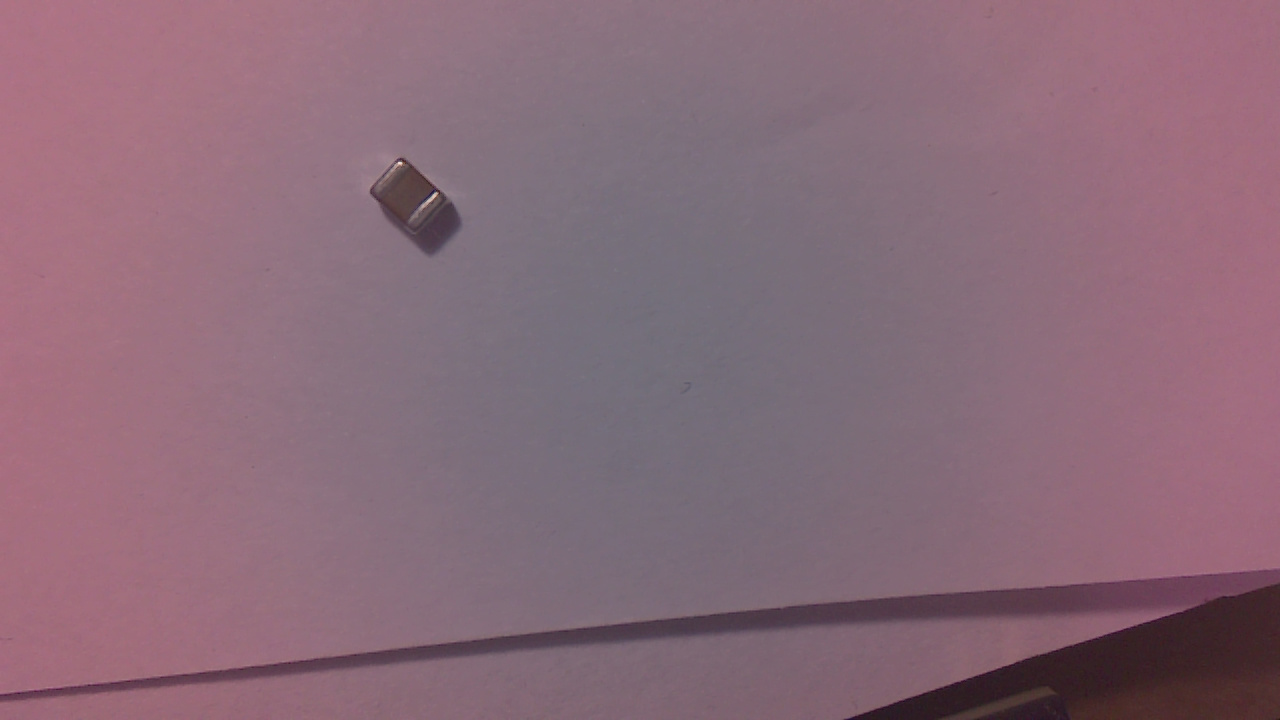Condensator: (374, 157, 458, 246)
